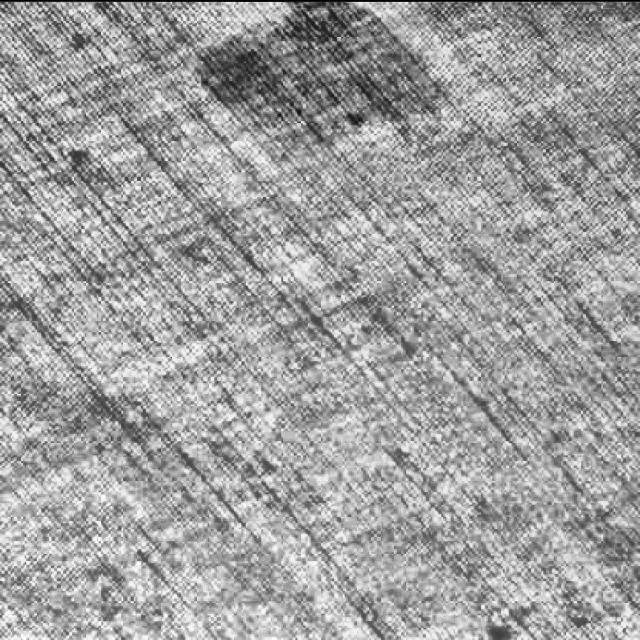oil_spot: (182, 0, 488, 185)
